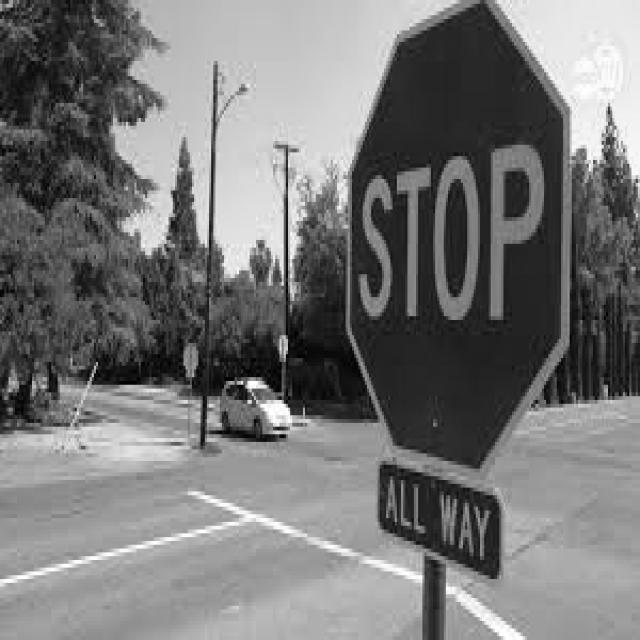stop sign: (355, 6, 575, 581)
